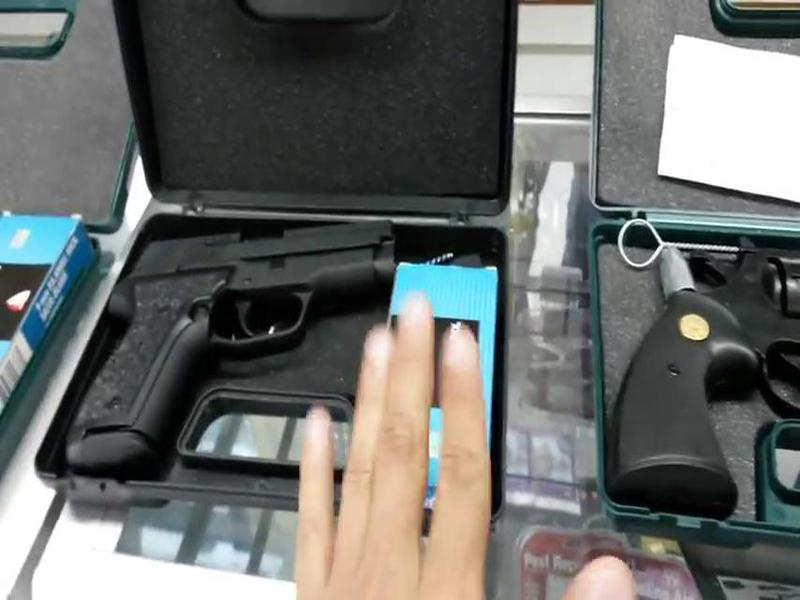Pistola: (57, 200, 410, 466)
